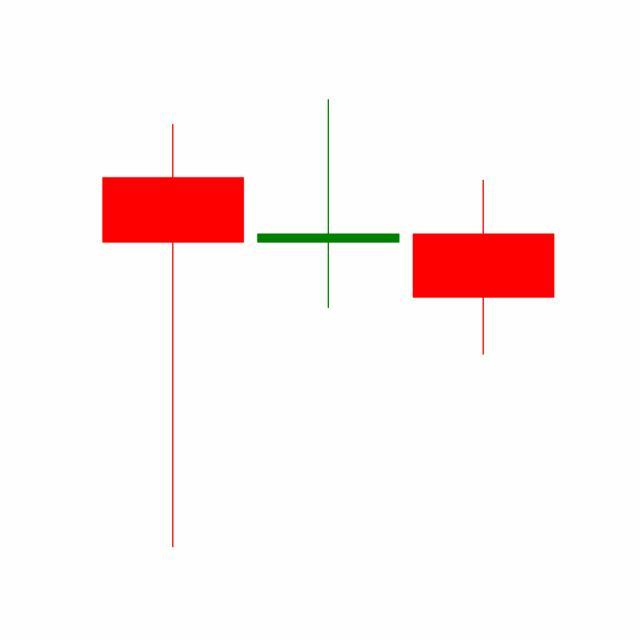Spinning Top: (250, 98, 407, 312)
